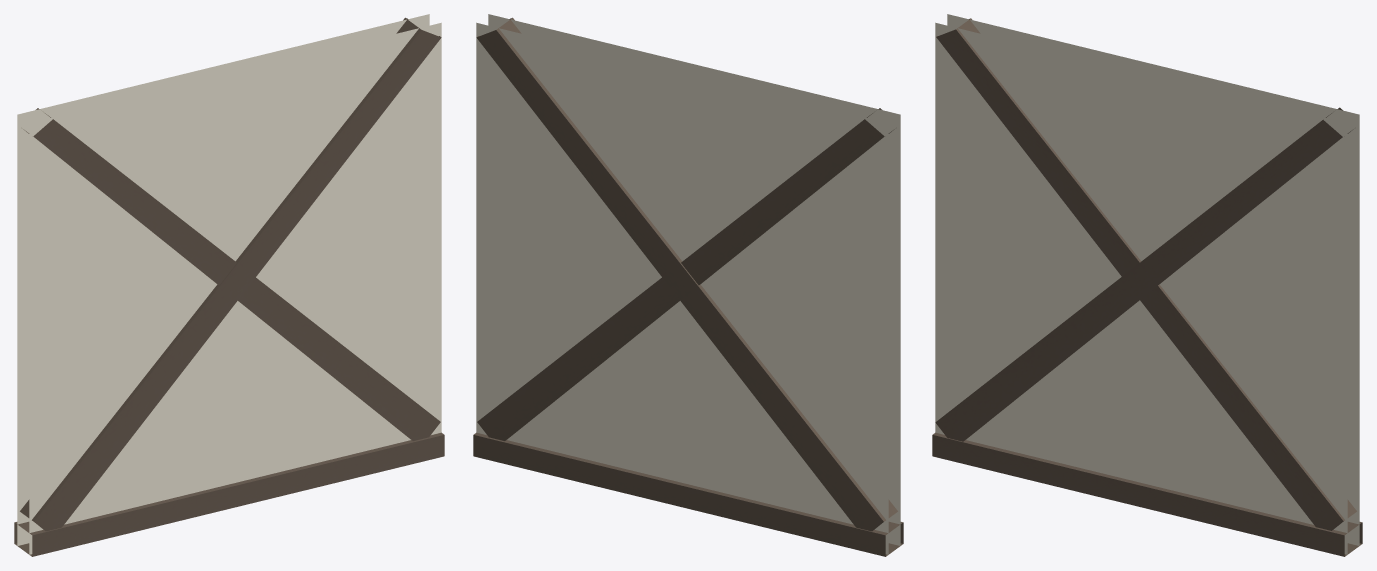
File: Wall_1E.fbx
3 views of the same model, side by side, from view 1: azimuth 30°, elevation 25°; view 2: azimuth 150°, elevation 25°; view 3: azimuth 330°, elevation 25° (orthographic).
Parts seen in each view (by area): view 1: pCube763; view 2: pCube763; view 3: pCube763.
Boxes of the visible parts, box(x1,y1,x2,y2) form: pCube763: box(14, 14, 444, 556); pCube763: box(473, 14, 903, 556); pCube763: box(932, 14, 1362, 556).
Size of the model in its own units: 400 by 400 by 30.
